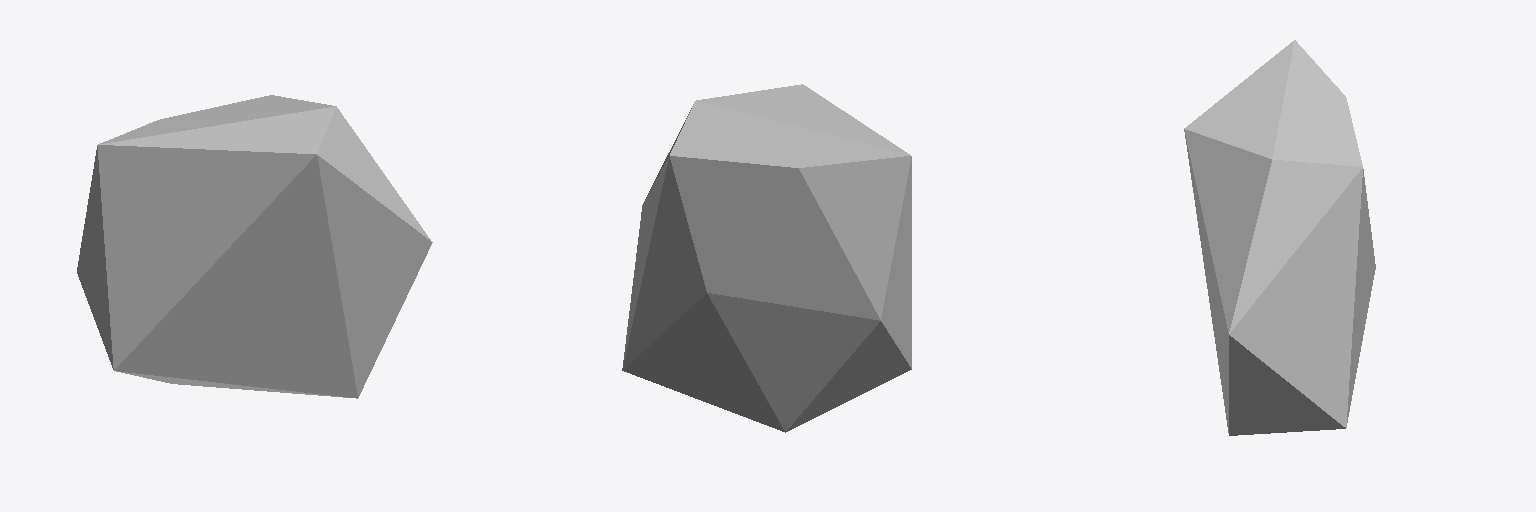
Rendered from rock 3.obj.
3 renders of one model, left to right at view 1: azimuth 30°, elevation 25°; view 2: azimuth 150°, elevation 25°; view 3: azimuth 270°, elevation 25°, orthographic.
Visible parts, largest first — view 1: pPlatonic2; view 2: pPlatonic2; view 3: pPlatonic2.
Boxes of the visible parts, box(x1,y1,x2,y2) form: pPlatonic2: box(77, 95, 432, 398); pPlatonic2: box(622, 84, 911, 432); pPlatonic2: box(1184, 40, 1375, 435).
Bounding box in the file's own units: 1.31 × 1.18 × 0.7218.